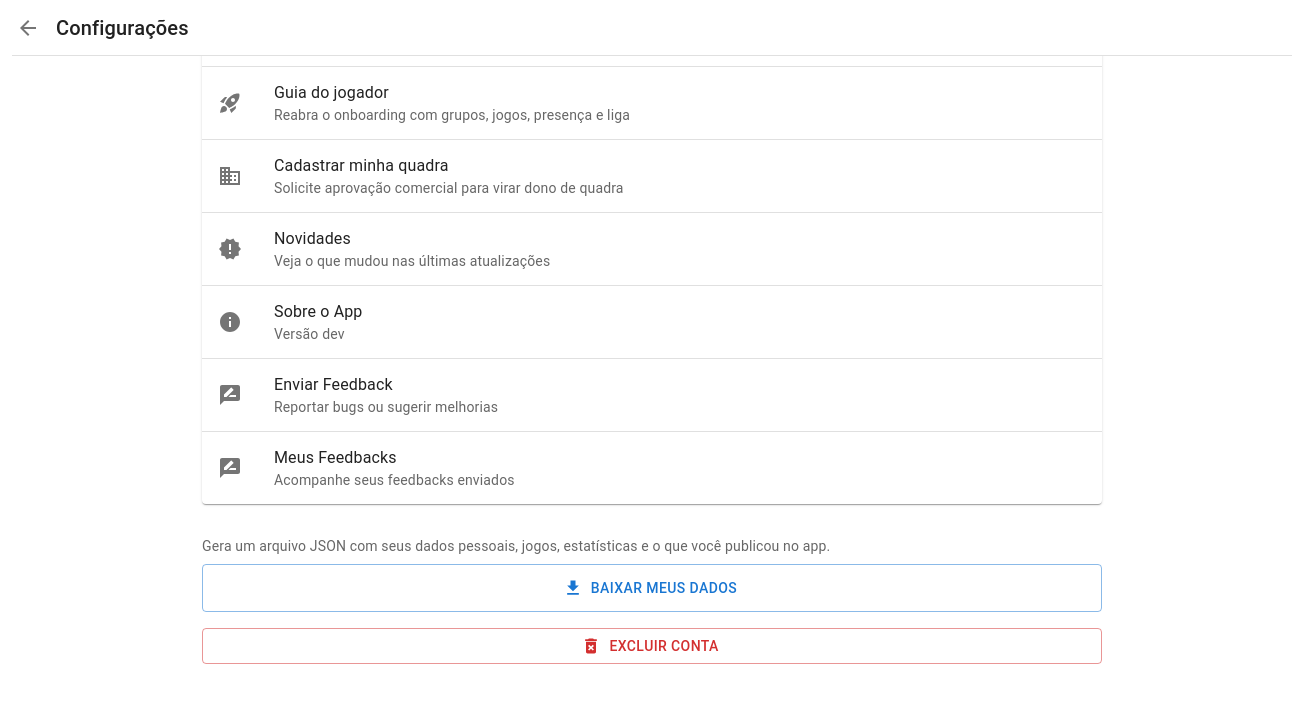
Scenario: SettingsScreen › Baixar meus dados (#4482) › mostra alerta e toast de erro quando o limite diário estoura
(page scrolled)
Click the button "Baixar meus dados": (652, 588) [202,564,1102,612]
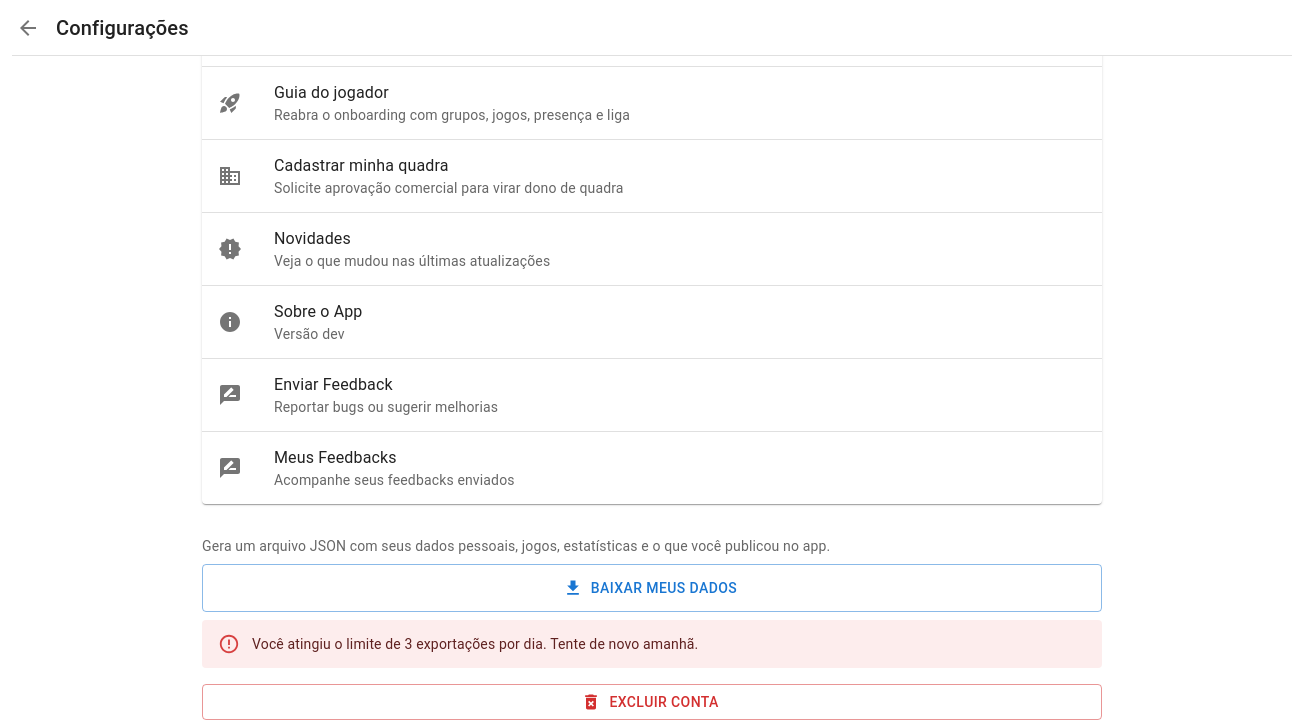
Now the message shows "limite de 3 exportações por dia", box [252,636,698,652]
